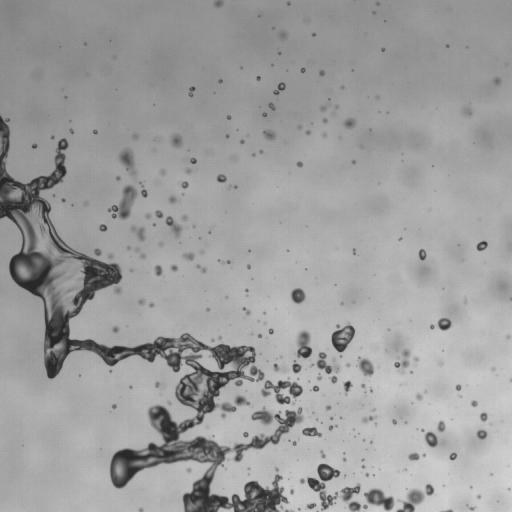droplet: (260, 378, 302, 404), (108, 185, 137, 219), (311, 352, 340, 383), (331, 322, 354, 353), (295, 330, 312, 358), (356, 356, 374, 376), (291, 288, 305, 303), (424, 431, 437, 447), (131, 226, 145, 240), (437, 318, 451, 330), (171, 134, 182, 147), (263, 130, 275, 140), (344, 118, 355, 128), (476, 429, 487, 439), (292, 361, 301, 373), (343, 381, 352, 393), (476, 241, 487, 250), (437, 420, 445, 432), (418, 249, 426, 260), (183, 252, 194, 260), (154, 265, 162, 276), (408, 452, 419, 460), (462, 107, 471, 116), (217, 174, 226, 182), (155, 210, 163, 218), (214, 0, 223, 7), (168, 196, 177, 203), (480, 412, 487, 421), (493, 77, 500, 85), (99, 224, 107, 231), (243, 307, 250, 315), (188, 87, 194, 96), (141, 188, 147, 197), (279, 31, 286, 38), (181, 181, 188, 188), (94, 248, 101, 255), (415, 393, 422, 400), (449, 453, 456, 460), (170, 265, 177, 271), (311, 385, 318, 391), (307, 503, 315, 508), (268, 103, 274, 109), (296, 161, 302, 167), (181, 215, 187, 221), (112, 326, 118, 332), (471, 400, 477, 406), (320, 451, 325, 458), (320, 106, 326, 111), (190, 158, 196, 163), (186, 167, 191, 173), (268, 328, 273, 334), (456, 384, 461, 390), (319, 70, 324, 75), (133, 134, 138, 139), (145, 213, 150, 218), (139, 299, 144, 304), (326, 405, 331, 410), (243, 432, 248, 437), (317, 374, 321, 380), (468, 506, 474, 510), (300, 68, 305, 72), (93, 129, 97, 134), (141, 253, 145, 258), (108, 254, 113, 258), (430, 324, 434, 329), (392, 419, 396, 424), (186, 468, 191, 472), (256, 76, 260, 80), (323, 118, 327, 122), (306, 130, 310, 134), (32, 144, 36, 148), (160, 170, 164, 174), (116, 176, 120, 180), (61, 198, 65, 202), (149, 303, 153, 307), (414, 357, 418, 361), (346, 363, 350, 367), (491, 367, 495, 371), (361, 384, 365, 388), (112, 404, 116, 408), (292, 441, 296, 445), (342, 457, 346, 461), (477, 494, 481, 498), (227, 115, 230, 119), (70, 129, 73, 133), (240, 140, 244, 143), (258, 334, 261, 338), (167, 401, 171, 404), (365, 473, 369, 476), (290, 489, 293, 493), (139, 508, 143, 511), (218, 79, 221, 82), (263, 113, 266, 116), (323, 133, 326, 136), (51, 136, 54, 139), (135, 248, 138, 251), (247, 265, 250, 268), (226, 134, 228, 138), (353, 249, 355, 253), (287, 2, 290, 4), (382, 48, 384, 51), (298, 126, 301, 128), (260, 150, 262, 153), (352, 161, 355, 163), (159, 243, 162, 245), (227, 260, 229, 263), (440, 362, 442, 365), (370, 388, 372, 391), (330, 417, 333, 419), (362, 465, 364, 468), (275, 468, 278, 470), (313, 33, 315, 35), (252, 154, 254, 156), (208, 231, 210, 233), (399, 238, 401, 240), (206, 308, 208, 310), (211, 339, 213, 341), (372, 409, 374, 411), (423, 454, 425, 456)
ligament: (0, 116, 300, 511), (299, 463, 394, 511), (396, 484, 434, 511), (119, 148, 136, 176), (394, 349, 410, 373), (165, 216, 182, 236), (302, 427, 321, 436), (273, 82, 285, 94), (273, 363, 288, 372), (362, 416, 375, 423), (155, 381, 163, 389), (196, 265, 205, 272), (328, 425, 336, 429), (441, 509, 453, 511)
